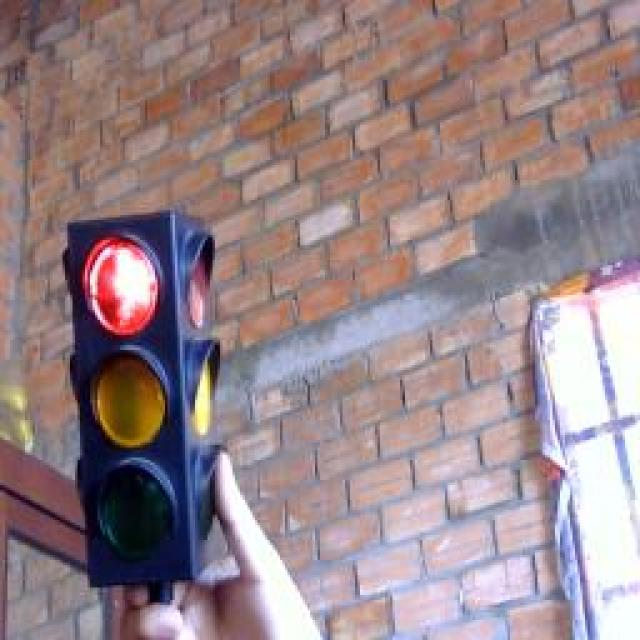-: (72, 223, 170, 348)
